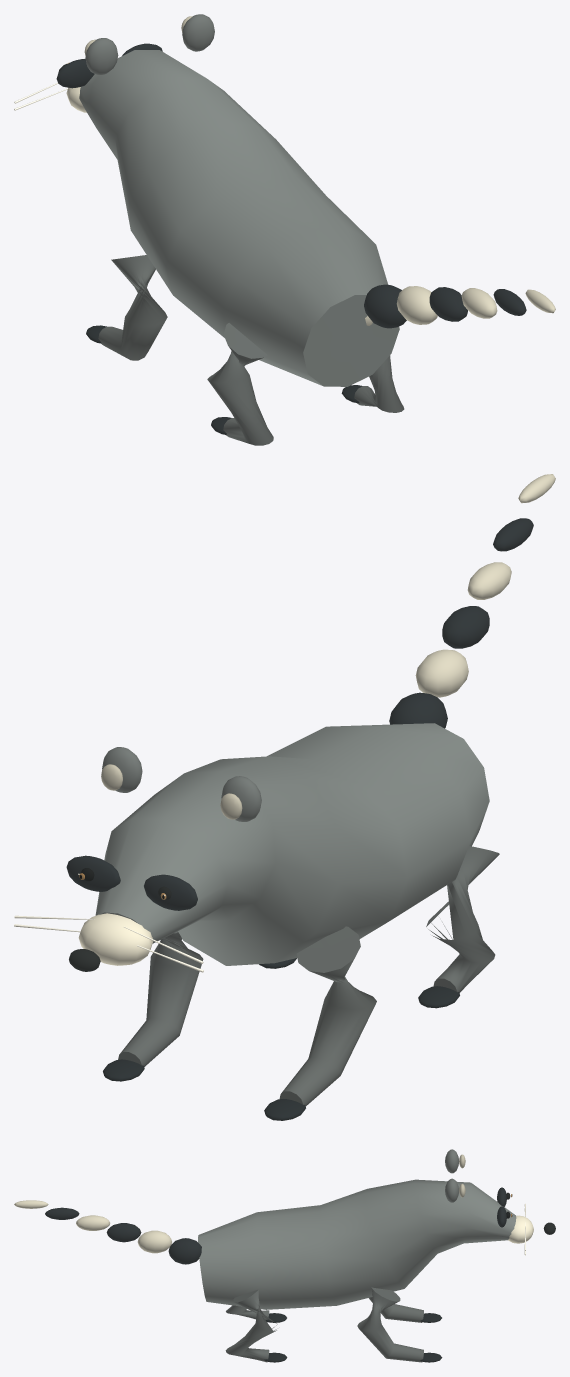
Rendered from raccoon_hero.glb.
The picture shows the model from 3 angles, top to bottom: view 1: azimuth 30°, elevation 25°; view 2: azimuth 150°, elevation 25°; view 3: azimuth 270°, elevation 25°; orthographic projection. The views are drawn at different scales.
Visible parts, largest first — view 1: RaccoonOrganicBody, Leg_LH, Leg_LF, Leg_RH, TailRingDetail_01, TailRingDetail_02, TailRingDetail_03, RoundEar2, RoundEar, TailRingDetail_04, FaceMaskDetail_L, TailRingDetail_05; view 2: RaccoonOrganicBody, Leg_LF, Leg_RF, Leg_LH, Muzzle, TailRingDetail_02, TailRingDetail_03, TailRingDetail_01, FaceMaskDetail_L, FaceMaskDetail_R, TailRingDetail_04, RoundEar2 (+2 smaller); view 3: RaccoonOrganicBody, Leg_RF, Leg_RH, TailRingDetail_01, TailRingDetail_02, Leg_LF, TailRingDetail_03, Muzzle, TailRingDetail_04, TailRingDetail_05, Leg_LH, RoundEar (+1 smaller).
Boxes of the visible parts, x1,y1,x2,y2 form: RaccoonOrganicBody: [79, 50, 399, 386]; Leg_LH: [207, 323, 273, 445]; Leg_LF: [98, 255, 167, 360]; Leg_RH: [354, 355, 404, 412]; TailRingDetail_01: [364, 284, 406, 328]; TailRingDetail_02: [396, 286, 437, 324]; TailRingDetail_03: [429, 287, 467, 321]; RoundEar2: [182, 14, 214, 51]; RoundEar: [85, 38, 118, 74]; TailRingDetail_04: [461, 288, 497, 318]; FaceMaskDetail_L: [56, 58, 94, 88]; TailRingDetail_05: [493, 289, 526, 315]; RaccoonOrganicBody: [95, 723, 489, 965]; Leg_LF: [279, 926, 376, 1106]; Leg_RF: [118, 931, 203, 1066]; Leg_LH: [426, 846, 499, 992]; Muzzle: [78, 913, 153, 965]; TailRingDetail_02: [415, 649, 468, 697]; TailRingDetail_03: [442, 606, 489, 648]; TailRingDetail_01: [389, 692, 447, 728]; FaceMaskDetail_L: [144, 874, 197, 910]; FaceMaskDetail_R: [66, 855, 120, 891]; TailRingDetail_04: [467, 562, 511, 599]; RoundEar2: [102, 747, 142, 792]; RaccoonOrganicBody: [198, 1179, 516, 1309]; Leg_RF: [357, 1287, 423, 1362]; Leg_RH: [225, 1289, 277, 1362]; TailRingDetail_01: [168, 1238, 201, 1264]; TailRingDetail_02: [137, 1230, 171, 1253]; Leg_LF: [369, 1297, 423, 1322]; TailRingDetail_03: [106, 1223, 141, 1242]; Muzzle: [508, 1215, 533, 1243]; TailRingDetail_04: [76, 1215, 110, 1230]; TailRingDetail_05: [45, 1207, 79, 1219]; Leg_LH: [226, 1305, 269, 1322]; RoundEar: [445, 1149, 458, 1173].
Size of the model in its own units: 1.11 by 1.69 by 4.68.
